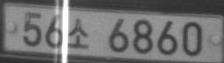0: (181, 21, 202, 56)
5: (22, 11, 42, 47)
6: (107, 17, 129, 53), (156, 20, 178, 56), (44, 14, 64, 48)
8: (131, 18, 154, 54)
소: (67, 17, 89, 49)
